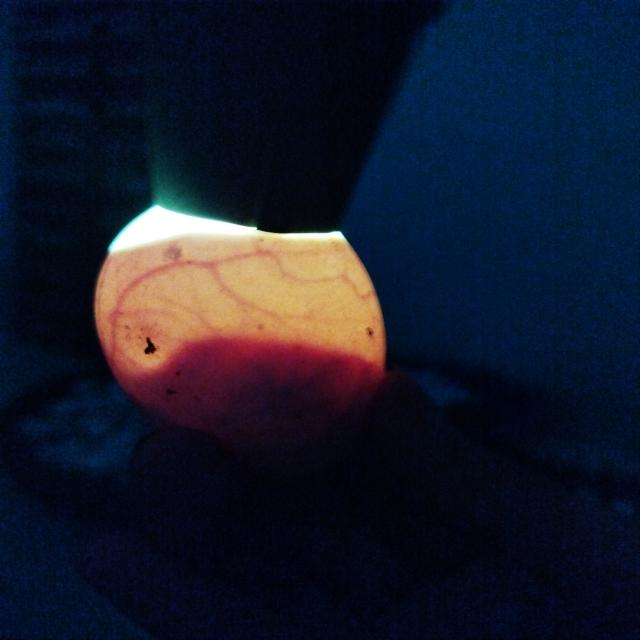Embriao: (102, 334, 385, 449)
